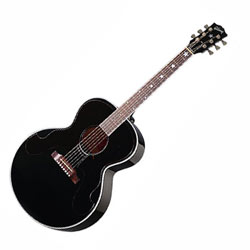guitar: (11, 21, 229, 233)
